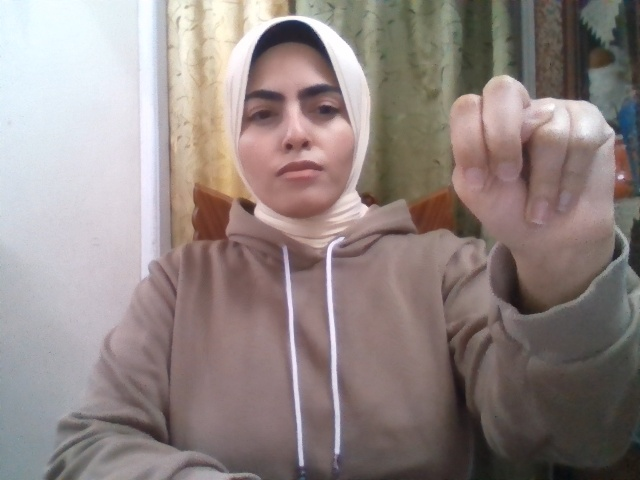N: (450, 74, 616, 253)
